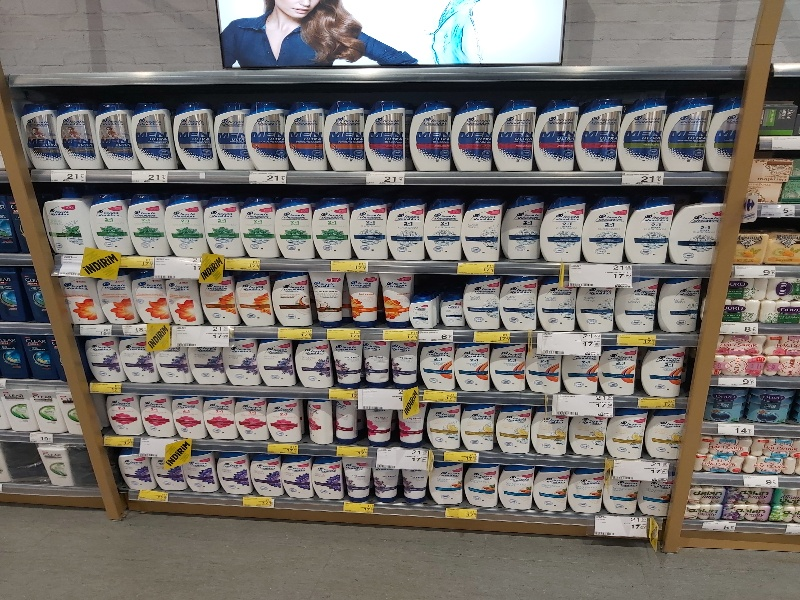product: (171, 95, 217, 171), (490, 98, 535, 175), (533, 94, 578, 171), (575, 96, 620, 173), (620, 98, 665, 175), (664, 97, 707, 175), (581, 196, 628, 265), (624, 197, 671, 266), (671, 202, 724, 262), (213, 97, 254, 174), (244, 97, 285, 174), (283, 94, 324, 171), (324, 96, 365, 173), (365, 96, 406, 173), (410, 94, 451, 171), (450, 98, 491, 175), (709, 96, 748, 173), (20, 96, 59, 172), (56, 93, 95, 169), (96, 93, 135, 169), (133, 95, 172, 171), (540, 195, 585, 260), (613, 273, 659, 334), (657, 276, 703, 337), (46, 195, 90, 257), (640, 344, 685, 401), (458, 275, 501, 333), (495, 276, 538, 334), (535, 278, 578, 334), (574, 273, 617, 329), (90, 195, 130, 255), (126, 196, 166, 256), (163, 197, 203, 257), (203, 198, 243, 258), (239, 195, 279, 255), (276, 194, 316, 254), (313, 199, 353, 259), (349, 198, 389, 258), (385, 199, 425, 259), (425, 198, 465, 258), (463, 201, 503, 261), (500, 200, 540, 260), (272, 271, 314, 328), (417, 339, 458, 394), (451, 340, 492, 395), (529, 404, 570, 458), (309, 269, 347, 327), (342, 267, 380, 325), (373, 268, 411, 326), (459, 400, 497, 458), (493, 401, 532, 457), (134, 270, 172, 327), (525, 346, 565, 400), (561, 343, 601, 397), (598, 343, 638, 397), (98, 270, 137, 324), (426, 457, 466, 509), (461, 459, 501, 511), (604, 409, 645, 459), (643, 410, 684, 460), (65, 274, 104, 326), (202, 273, 240, 326), (235, 273, 273, 326), (568, 409, 607, 458), (29, 388, 67, 438), (489, 344, 528, 392), (83, 335, 124, 380), (118, 334, 159, 379), (149, 340, 190, 385), (185, 341, 226, 386), (219, 341, 260, 386), (257, 341, 298, 386), (292, 344, 333, 389), (106, 390, 143, 439), (497, 465, 535, 512), (533, 468, 571, 515), (568, 468, 606, 515), (602, 469, 640, 516), (116, 447, 151, 498), (2, 381, 36, 432), (184, 451, 220, 499), (214, 448, 250, 496), (248, 452, 284, 500), (279, 453, 315, 501), (309, 453, 345, 501), (339, 456, 375, 504), (22, 334, 57, 382), (38, 440, 73, 488), (169, 275, 201, 327), (154, 449, 189, 496), (635, 475, 674, 517), (267, 392, 299, 443), (299, 393, 331, 444), (369, 456, 401, 507), (396, 457, 428, 508), (426, 405, 461, 451), (330, 341, 362, 389), (362, 340, 394, 388), (387, 341, 419, 389), (142, 390, 173, 439), (172, 392, 203, 441), (204, 391, 235, 440), (238, 391, 269, 440), (329, 396, 359, 444), (364, 401, 392, 446), (397, 400, 425, 445), (403, 293, 437, 330), (435, 294, 466, 330)
